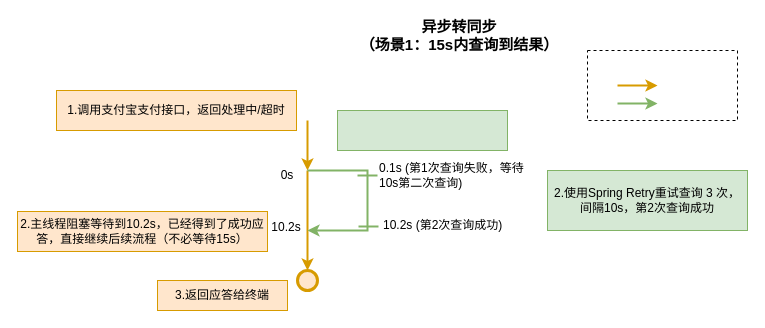
This 765x328 diagram has some shape labels left out. Each missing label, with the centre of its shape:
1.异步发起支付状态查询: (x=422, y=130)
图例 主线程 异步线程: (x=662, y=85)
